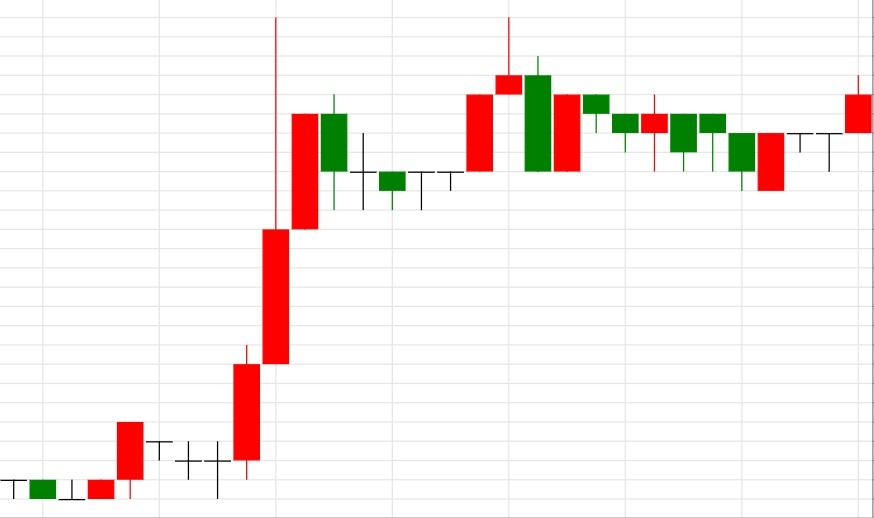bullish_engulfing_rise: (523, 54, 785, 192)
shooting_star_fall: (378, 17, 523, 209)
three_white_soldiers_rise: (116, 16, 319, 499)
